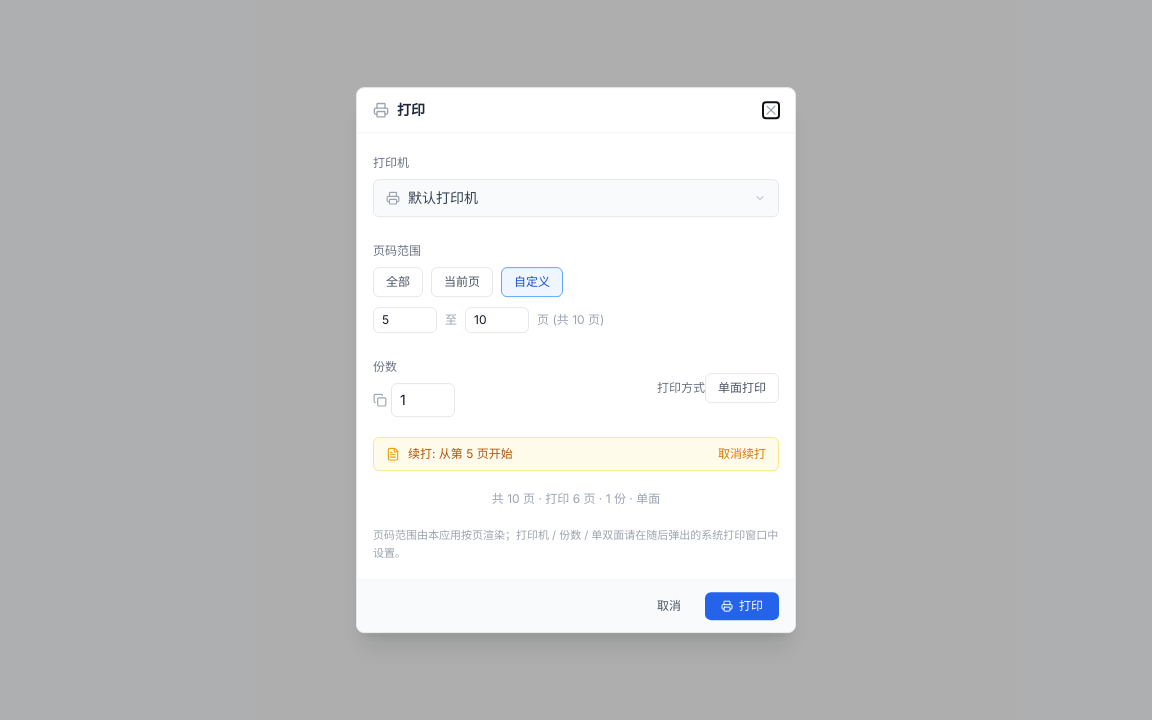
PrintDialog — 续打断点 › 取消续打 → 提示消失, 起始页收回第 1 页 (否则数字框与"从头打印"对不上)
Step 1. Click the button "取消续打" → (742, 454), box [718,446,766,462]
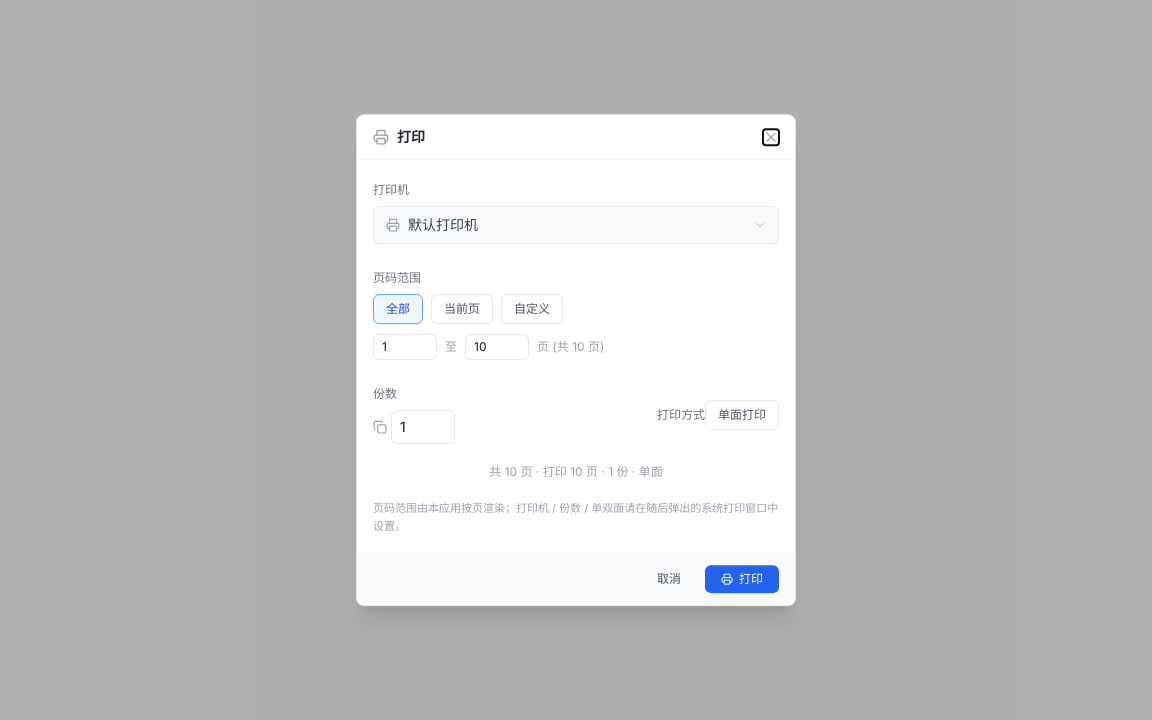
Result: the text "续打: 从第" is gone
Result: the 1st number field holds "1" at [373,334,437,360]
